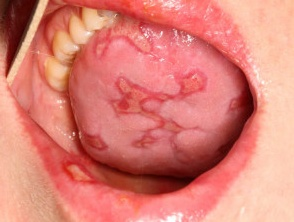SJS-TEN: (103, 61, 226, 178), (85, 7, 165, 62), (47, 146, 105, 202), (69, 119, 118, 161)
